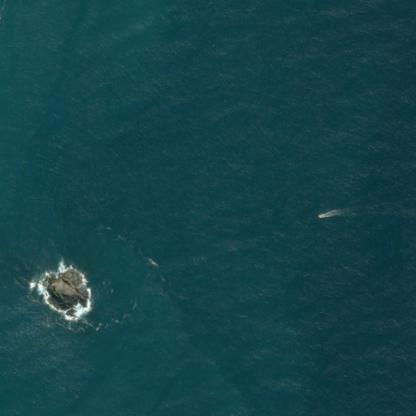ship: (318, 214, 321, 217)
